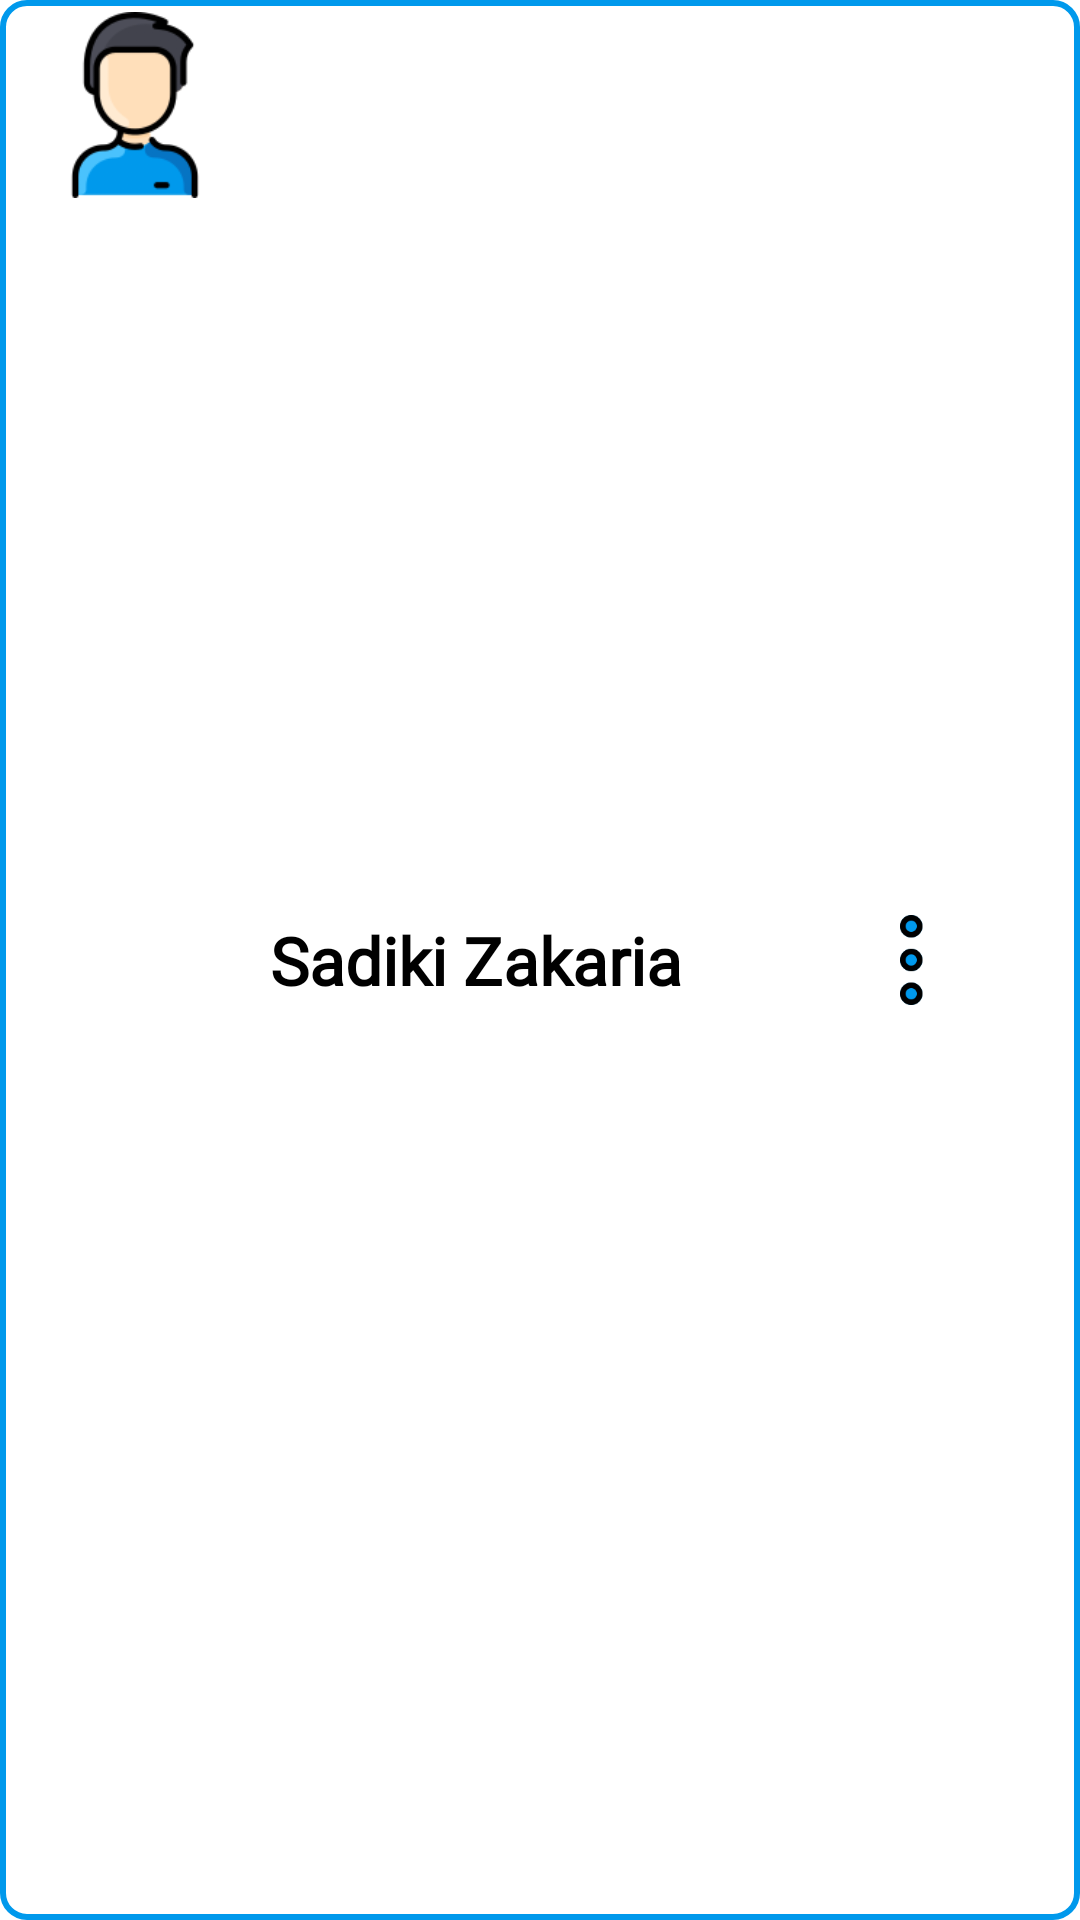

Where to tap for icons on this 1080 x 1920 app screen, as (x,y):
ellipsis: (911,960)
user: (135,105)
